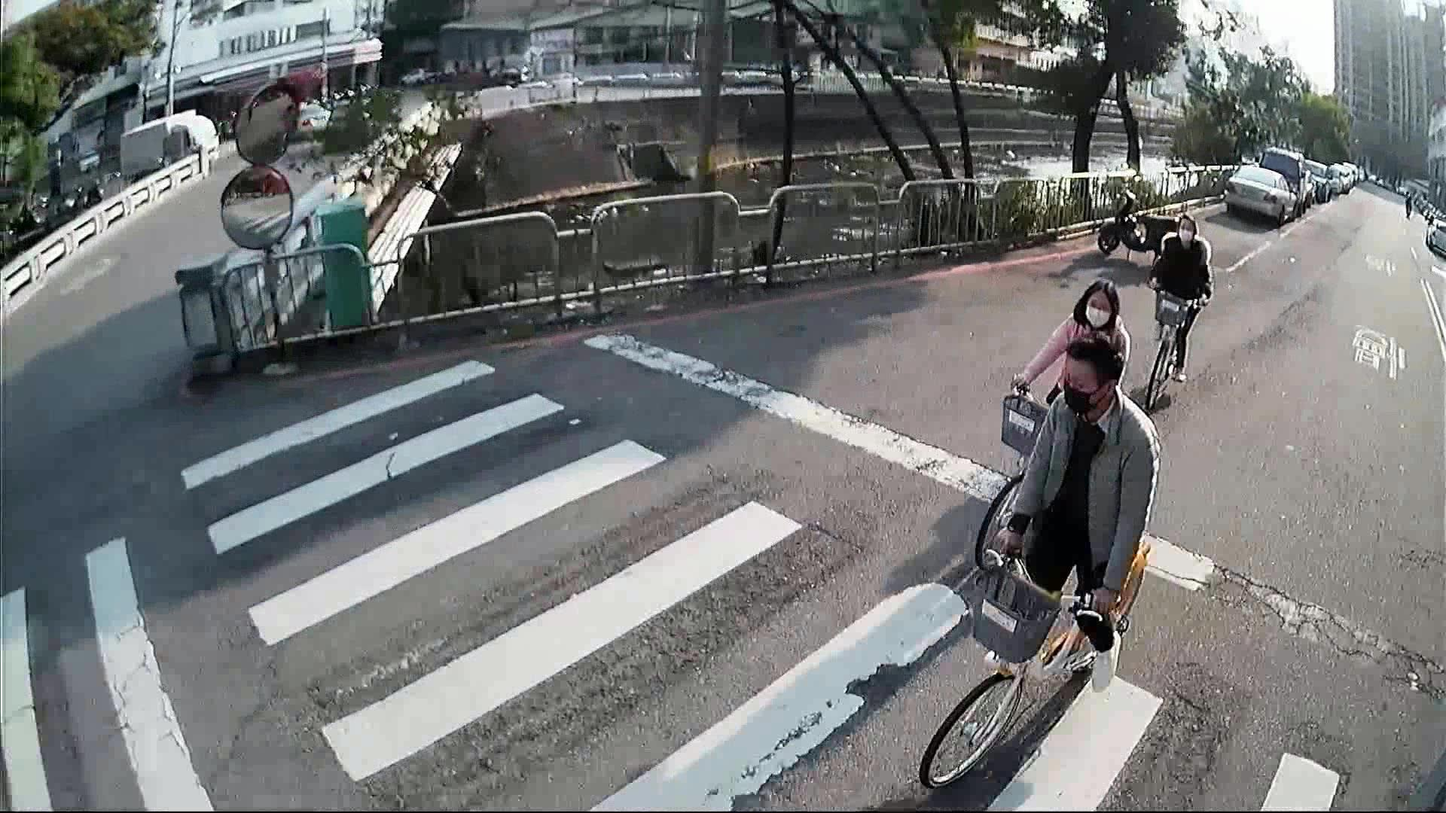person: (995, 330, 1170, 696), (1007, 276, 1130, 405), (1137, 210, 1217, 383)
